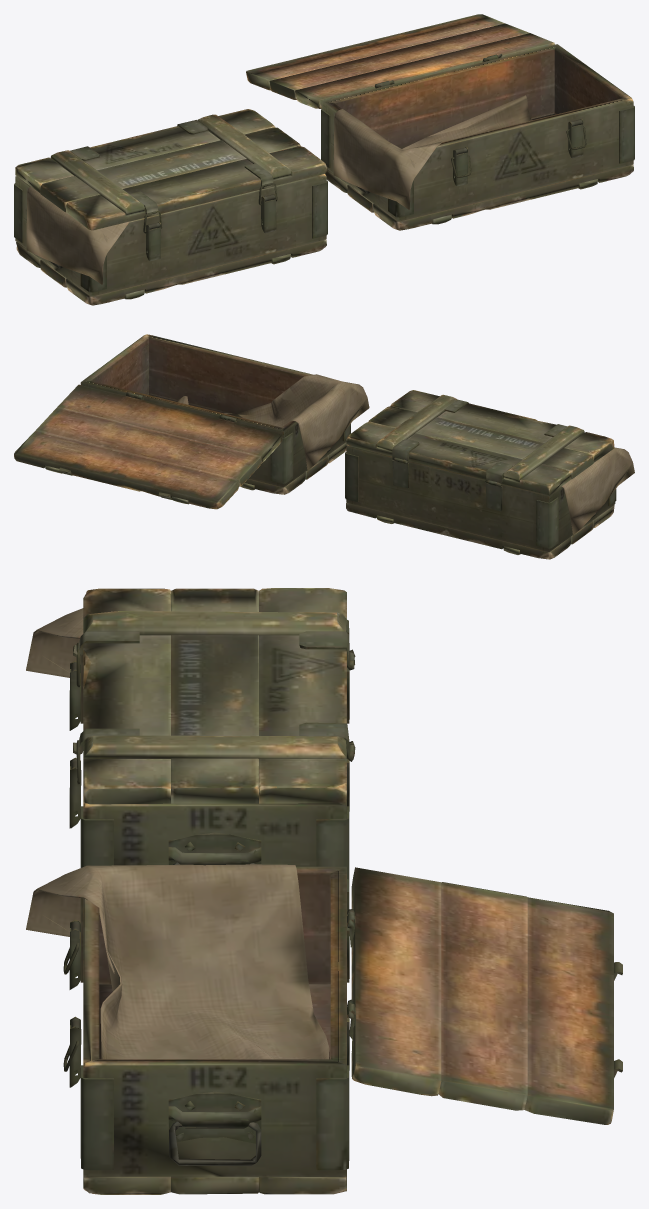
File: old_military_crate.gltf
3 renders of one model, top to bottom at view 1: azimuth 30°, elevation 25°; view 2: azimuth 150°, elevation 25°; view 3: azimuth 270°, elevation 25°, orthographic. The views are drawn at different scales.
Parts seen in each view (by area): view 1: old_military_crate_b, old_military_crate_lid_a, old_military_crate_a, old_military_crate_lid_b, old_military_crate_cloth_b, old_military_crate_cloth_a, old_military_crate_latch_a, old_military_crate_latch_b; view 2: old_military_crate_lid_b, old_military_crate_lid_a, old_military_crate_a, old_military_crate_b, old_military_crate_cloth_b, old_military_crate_cloth_a; view 3: old_military_crate_lid_a, old_military_crate_lid_b, old_military_crate_b, old_military_crate_cloth_b, old_military_crate_a, old_military_crate_cloth_a, old_military_crate_latch_a, old_military_crate_latch_b.
Part boxes in pixels (bbox=[...]): old_military_crate_b: bbox=[321, 44, 634, 230]; old_military_crate_lid_a: bbox=[15, 109, 326, 230]; old_military_crate_a: bbox=[14, 174, 327, 305]; old_military_crate_lid_b: bbox=[246, 14, 554, 108]; old_military_crate_cloth_b: bbox=[333, 95, 532, 209]; old_military_crate_cloth_a: bbox=[26, 186, 129, 284]; old_military_crate_latch_a: bbox=[146, 194, 276, 261]; old_military_crate_latch_b: bbox=[453, 119, 583, 186]; old_military_crate_lid_b: bbox=[14, 384, 282, 509]; old_military_crate_lid_a: bbox=[346, 390, 614, 495]; old_military_crate_a: bbox=[345, 446, 616, 559]; old_military_crate_b: bbox=[80, 334, 350, 494]; old_military_crate_cloth_b: bbox=[175, 374, 369, 470]; old_military_crate_cloth_a: bbox=[562, 447, 634, 535]; old_military_crate_lid_a: bbox=[73, 588, 355, 804]; old_military_crate_lid_b: bbox=[347, 867, 622, 1124]; old_military_crate_b: bbox=[80, 866, 354, 1194]; old_military_crate_cloth_b: bbox=[26, 864, 329, 1059]; old_military_crate_a: bbox=[80, 620, 355, 886]; old_military_crate_cloth_a: bbox=[26, 608, 83, 677]; old_military_crate_latch_a: bbox=[69, 660, 81, 828]; old_military_crate_latch_b: bbox=[69, 919, 81, 1087].
Bounding box in the file's own units: 1.81 × 0.3009 × 0.9744.
1 material, 1 textured.
